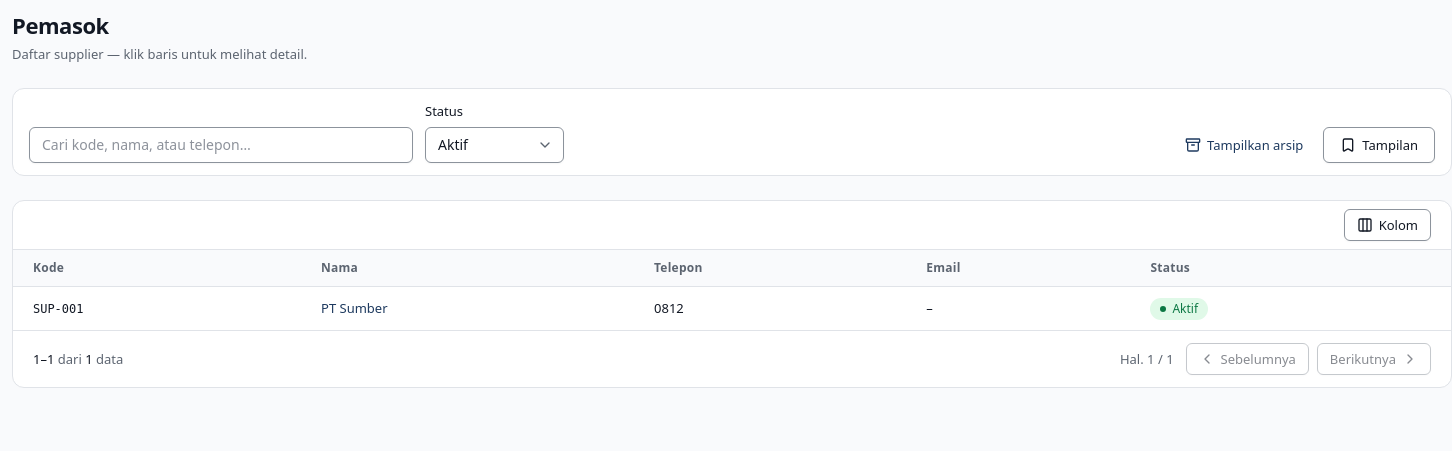
Test: daftar pemasok — konsisten dengan pelanggan (PM-02) › default Aktif, tombol arsip, dan kolom tanggal arsip
Expected: the link "PT Sumber" is shown, x1=321 y1=299 x2=388 y2=317
Expected: the text "Diarsipkan pada" is not shown
Click the button "Tampilkan arsip". click: (1244, 144)
box: x1=1173 y1=128 x2=1315 y2=160
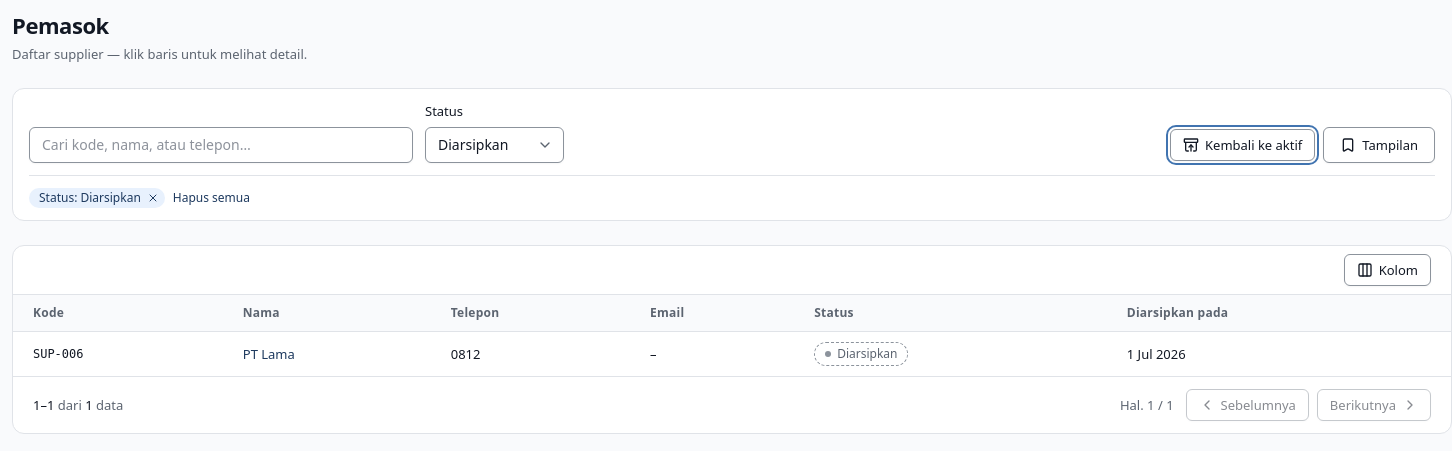
Expected: the link "PT Lama" is shown, x1=243 y1=344 x2=295 y2=362
Expected: the column heading "Diarsipkan pada" is shown, x1=1111 y1=294 x2=1451 y2=331
